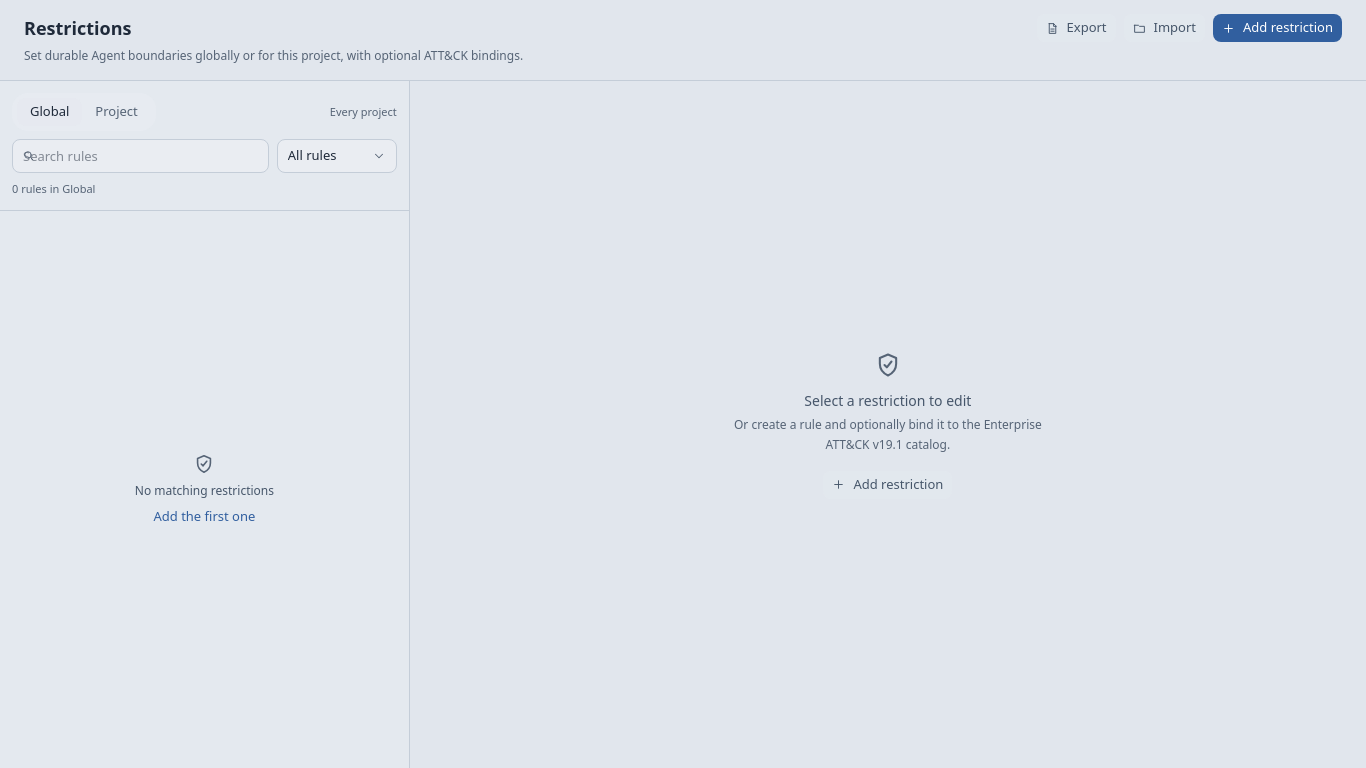
Scenario: AgentInstructionsSettings restriction editor › shows Agent classification as a suggestion and applies it only after confirmation
Click the 1st button "Add restriction" at point(1278, 28), box [1213,14,1342,42]
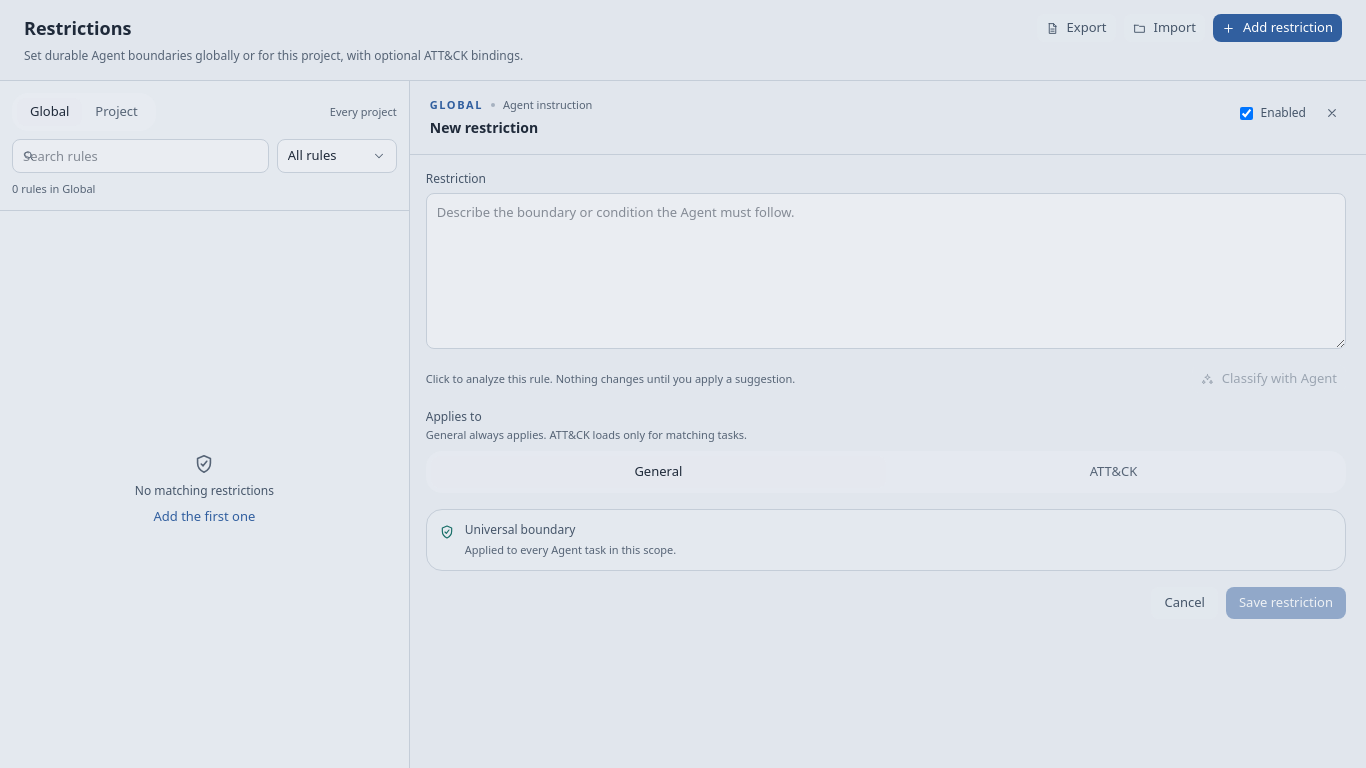
Expected: the element "Classification suggestion" is not shown
Type "Limit IP range scan rate." into the text box labelled "Restriction" at point(886, 271), box [426,192,1346,349]
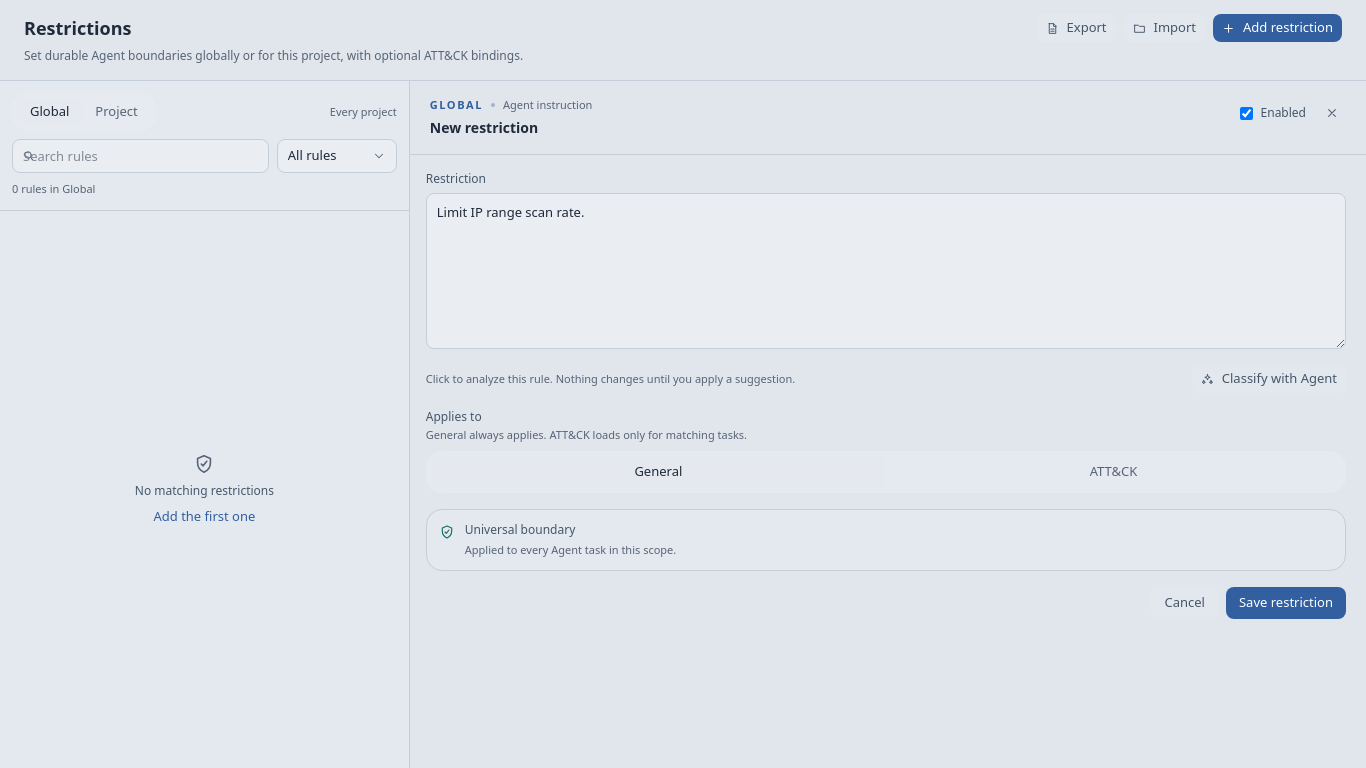
Expected: the element "Classification suggestion" is not shown
Click the button "Classify with Agent" at point(1269, 379), box [1192,365,1346,393]
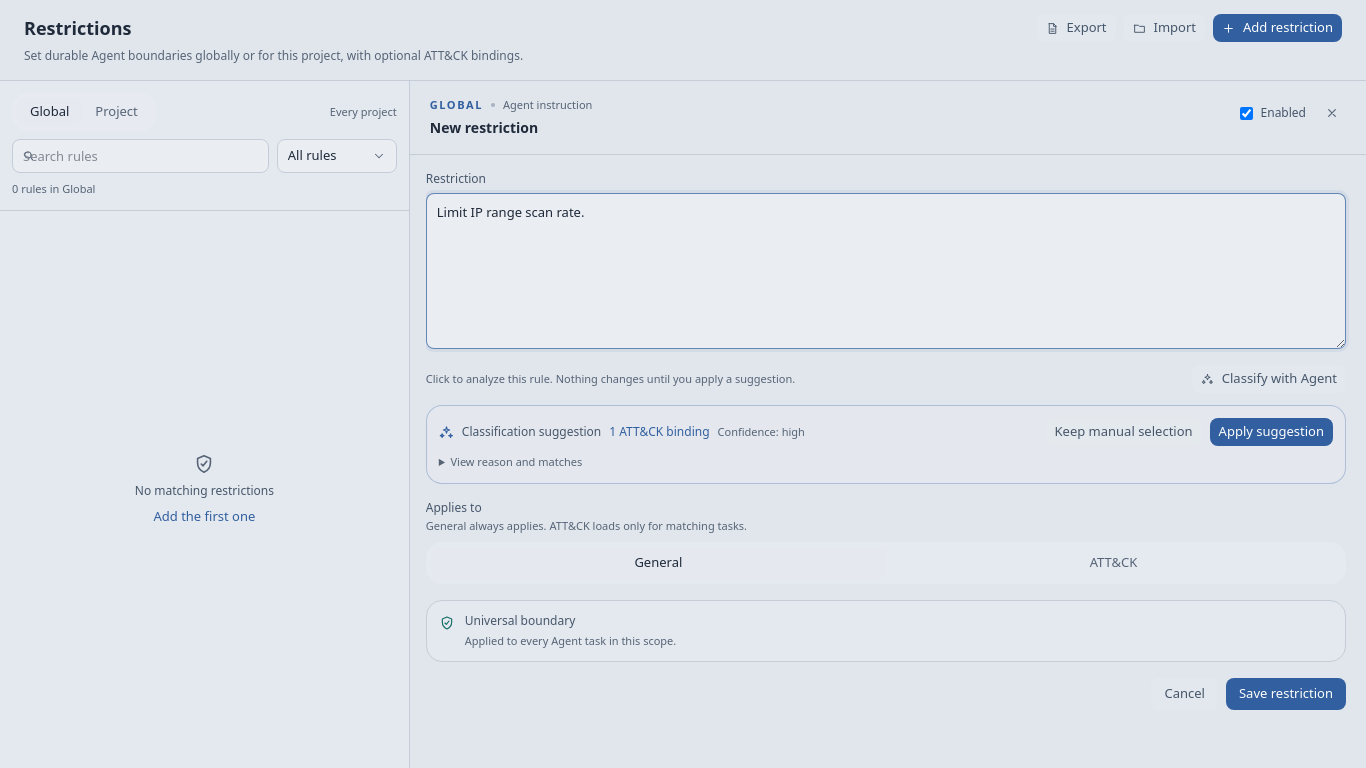
Result: the text "Classification suggestion" is shown at [462,424,601,440]
Result: the element "Classification suggestion" is shown at [426,405,1346,484]
Result: the text "1 ATT&CK binding" is shown at [609,424,710,440]
Click the button "Apply suggestion" at point(1271, 432), box [1210,418,1333,446]
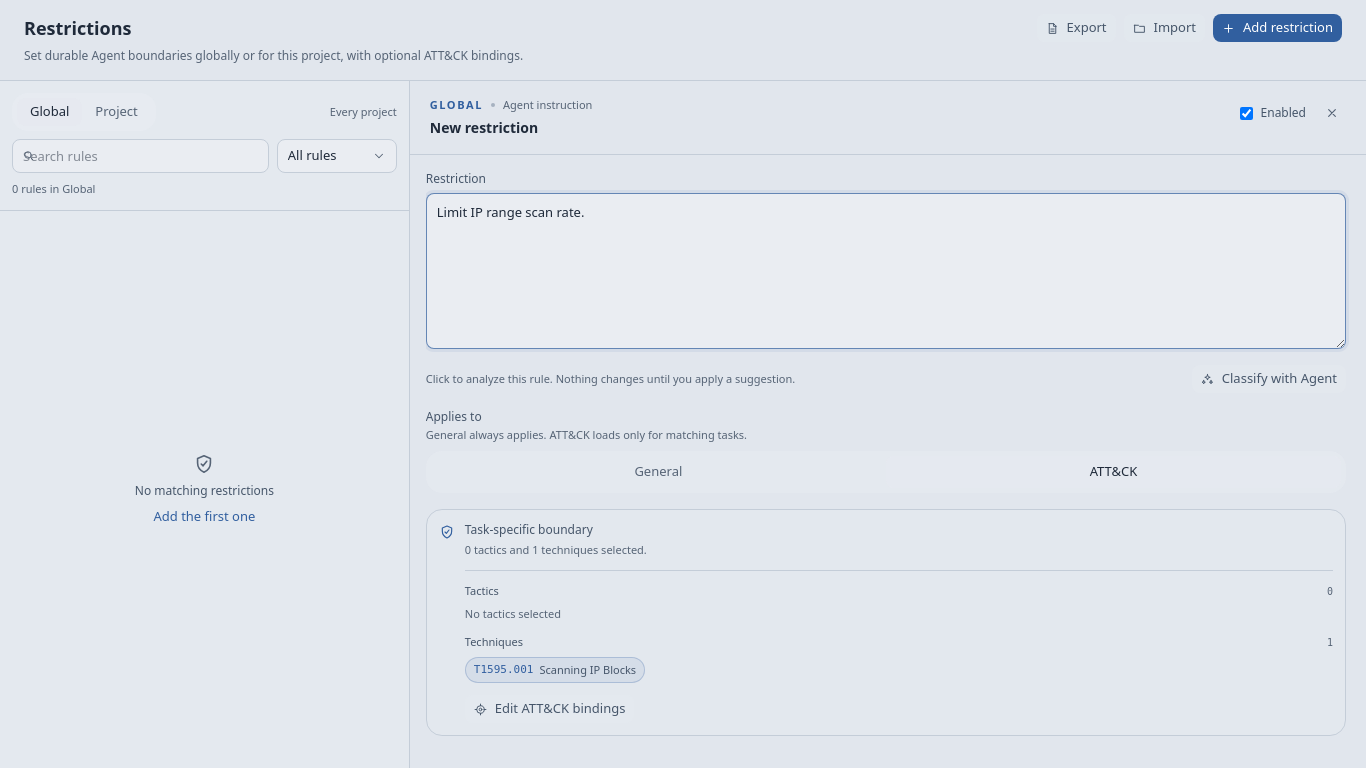
Result: the button "Edit ATT&CK bindings" is shown at [465,695,634,723]
